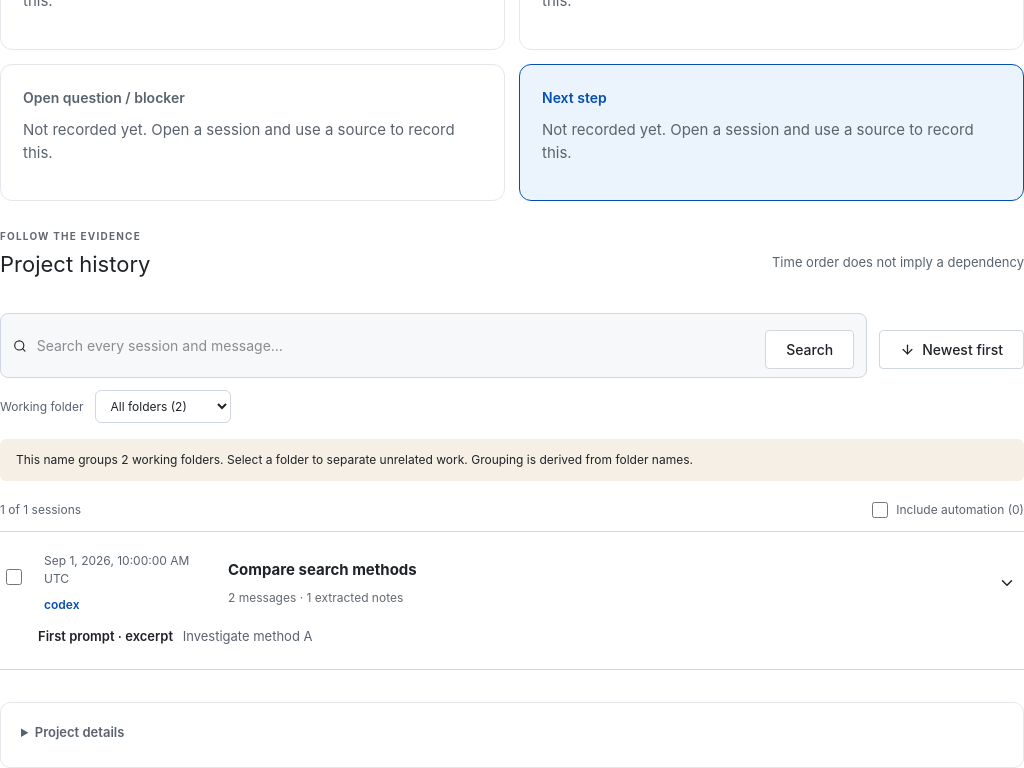
Test: Project story › starts with honest empty state and loads evidence only when expanded
(page scrolled)
Check: the text "This name groups 2 working folders" is shown, box [0,439,1023,481]
Click the button "Compare search methods" at point(117, 561), box [36,532,1023,626]
(page scrolled)
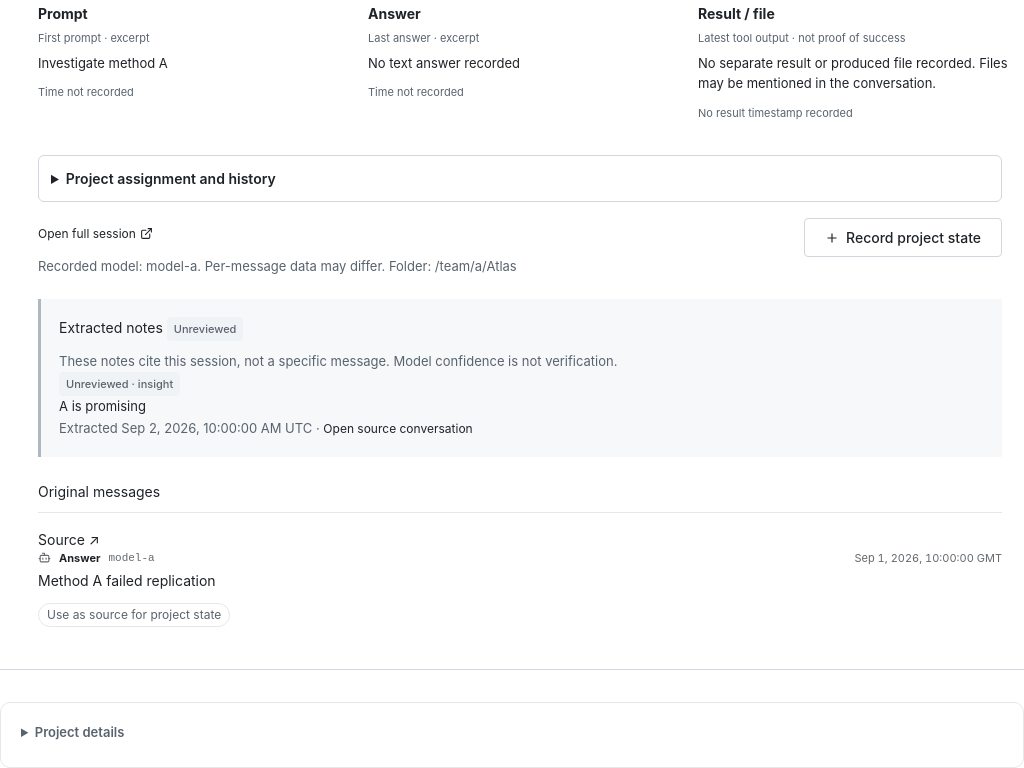
Check: the text "A is promising" is shown, box [59,398,146,414]
Check: the text "Unreviewed" is shown, box [167,317,243,341]
